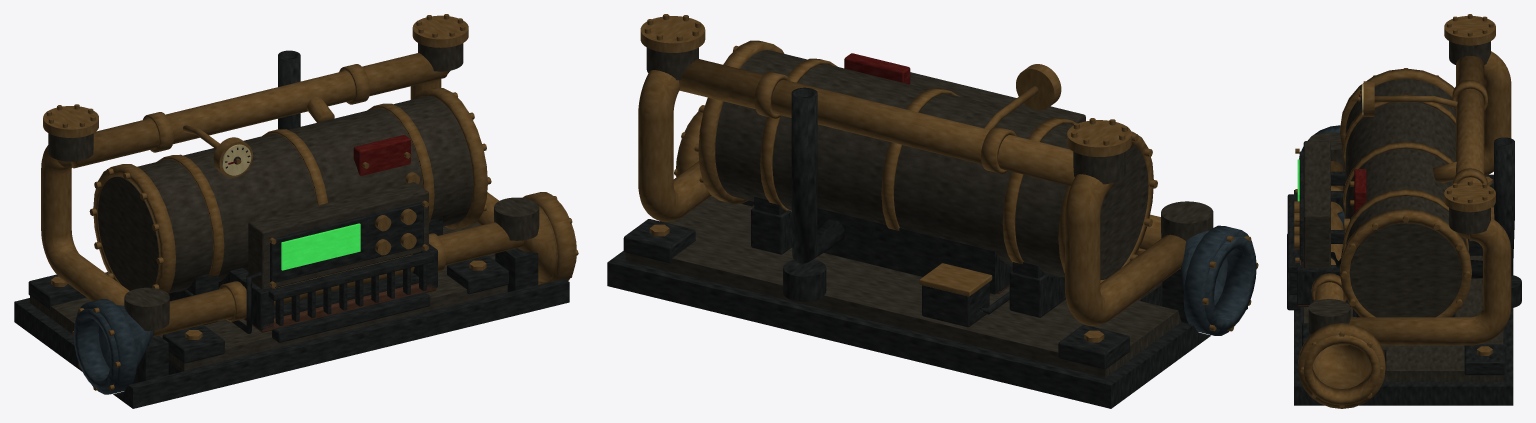
File: sterling-v10.glb
The picture shows the model from 3 angles, left to right: view 1: azimuth 30°, elevation 25°; view 2: azimuth 150°, elevation 25°; view 3: azimuth 270°, elevation 25°; orthographic projection. The views are drawn at different scales.
Parts seen in each view (by area): view 1: STERLING | horizontal pressure drum, STERLING | continuous bolted deck base, STERLING | continuous circulation header, STERLING | armored cogitator console, STERLING | layered armor deck, STERLING | end jacket return, STERLING | dished vessel end cover, STERLING | continuous circulation header.001, STERLING | recessed console face, STERLING | end pressure flange, STERLING | ash drawer, STERLING | WATER seating collar (+32 smaller); view 2: STERLING | horizontal pressure drum, STERLING | layered armor deck, STERLING | continuous bolted deck base, STERLING | continuous circulation header, STERLING | end jacket return, STERLING | end jacket return.001, STERLING | firebox back wall, STERLING | rear combustion exhaust, STERLING | dished vessel end cover, STERLING | WATER seating collar, STERLING | WATER full bore outer socket, STERLING | end pressure flange.001 (+24 smaller); view 3: STERLING | horizontal pressure drum, STERLING | dished vessel end cover.001, STERLING | end jacket return.001, STERLING | continuous bolted deck base, STERLING | layered armor deck, STERLING | armored cogitator console, STERLING | continuous circulation header, STERLING | end pressure flange.001, STERLING | end jacket return, STERLING | STEAM full bore outer socket, STERLING | rear combustion exhaust, STERLING | STEAM full-size tapered reducer (+26 smaller).
Part boxes in pixels (bbox=[...]): STERLING | horizontal pressure drum: bbox=[137, 96, 473, 293]; STERLING | continuous bolted deck base: bbox=[14, 254, 569, 408]; STERLING | continuous circulation header: bbox=[71, 53, 448, 168]; STERLING | armored cogitator console: bbox=[248, 182, 428, 289]; STERLING | layered armor deck: bbox=[30, 222, 507, 371]; STERLING | end jacket return: bbox=[41, 145, 129, 305]; STERLING | dished vessel end cover: bbox=[98, 176, 159, 290]; STERLING | continuous circulation header.001: bbox=[152, 222, 524, 336]; STERLING | recessed console face: bbox=[270, 202, 423, 282]; STERLING | end pressure flange: bbox=[93, 164, 175, 292]; STERLING | ash drawer: bbox=[272, 292, 430, 342]; STERLING | WATER seating collar: bbox=[76, 299, 136, 394]; STERLING | horizontal pressure drum: bbox=[715, 50, 1073, 277]; STERLING | layered armor deck: bbox=[625, 196, 1181, 377]; STERLING | continuous bolted deck base: bbox=[607, 250, 1247, 408]; STERLING | continuous circulation header: bbox=[679, 59, 1074, 185]; STERLING | end jacket return: bbox=[1065, 174, 1185, 325]; STERLING | end jacket return.001: bbox=[638, 70, 711, 221]; STERLING | firebox back wall: bbox=[817, 208, 999, 294]; STERLING | rear combustion exhaust: bbox=[791, 87, 845, 263]; STERLING | dished vessel end cover: bbox=[1100, 144, 1148, 280]; STERLING | WATER seating collar: bbox=[1183, 225, 1253, 335]; STERLING | WATER full bore outer socket: bbox=[1204, 236, 1256, 330]; STERLING | end pressure flange.001: bbox=[698, 40, 784, 203]; STERLING | horizontal pressure drum: bbox=[1345, 78, 1465, 273]; STERLING | dished vessel end cover.001: bbox=[1350, 222, 1461, 317]; STERLING | end jacket return.001: bbox=[1333, 218, 1511, 345]; STERLING | continuous bolted deck base: bbox=[1294, 190, 1513, 405]; STERLING | layered armor deck: bbox=[1303, 206, 1503, 381]; STERLING | armored cogitator console: bbox=[1303, 141, 1330, 268]; STERLING | continuous circulation header: bbox=[1456, 55, 1484, 238]; STERLING | end pressure flange.001: bbox=[1340, 209, 1471, 317]; STERLING | end jacket return: bbox=[1343, 51, 1511, 175]; STERLING | STEAM full bore outer socket: bbox=[1303, 335, 1379, 405]; STERLING | rear combustion exhaust: bbox=[1470, 137, 1514, 278]; STERLING | STEAM full-size tapered reducer: bbox=[1312, 345, 1371, 388].
Bounding box in the file's own units: 4 × 1.79 × 1.9.
9 materials, 9 textured.
